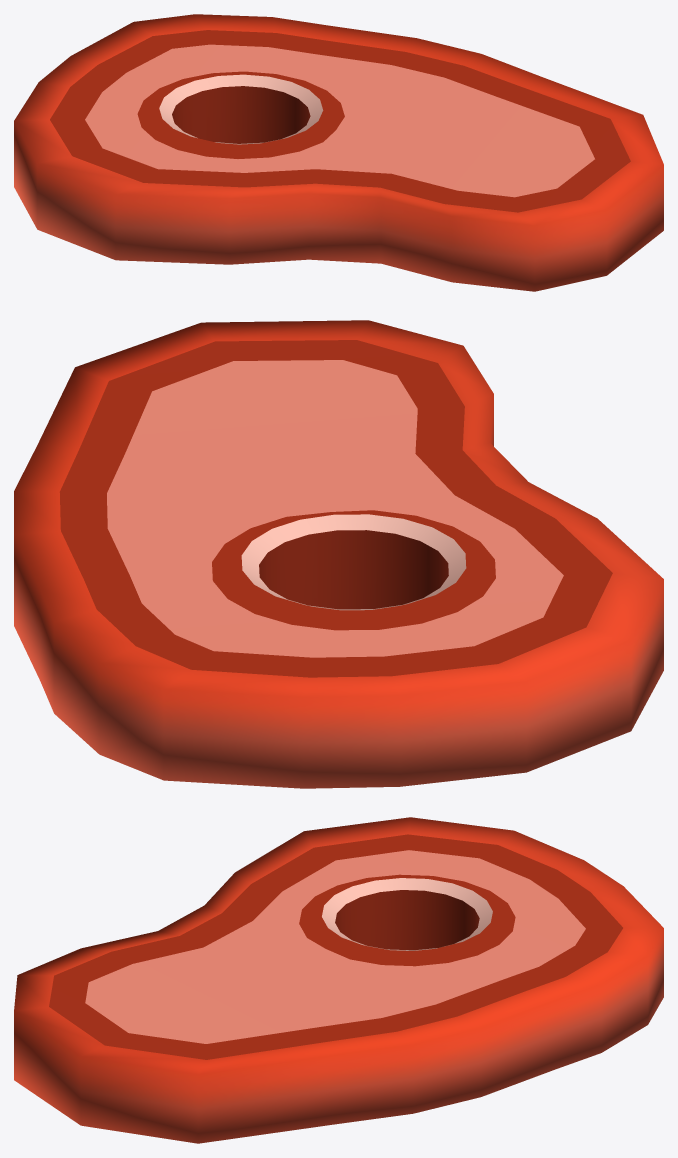
Rendered from steak.fbx.
The picture shows the model from 3 angles, top to bottom: view 1: azimuth 30°, elevation 25°; view 2: azimuth 150°, elevation 25°; view 3: azimuth 270°, elevation 25°; orthographic projection. The views are drawn at different scales.
Visible parts, largest first — view 1: steak; view 2: steak; view 3: steak.
Part boxes in pixels (x1=…): steak: x1=14, y1=14, x2=663, y2=291; steak: x1=14, y1=320, x2=663, y2=788; steak: x1=14, y1=817, x2=663, y2=1143.
Size of the model in its own units: 56.72 by 8.4 by 60.53.
